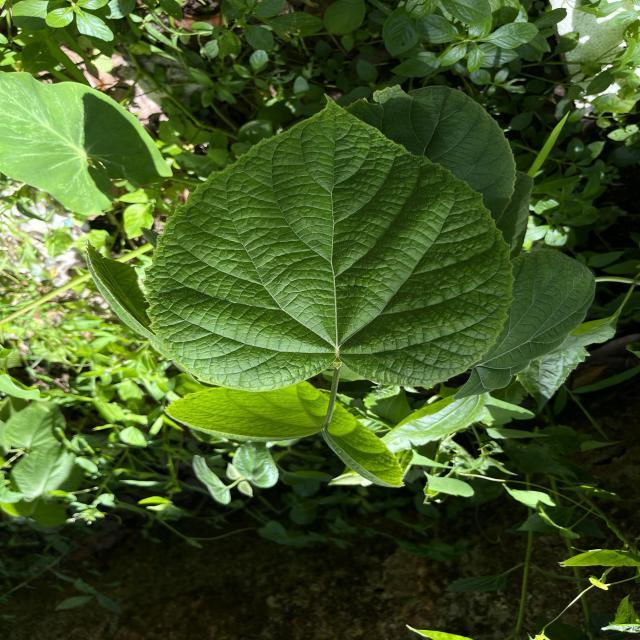Clerodendrum infortunatum: (143, 94, 516, 394)
